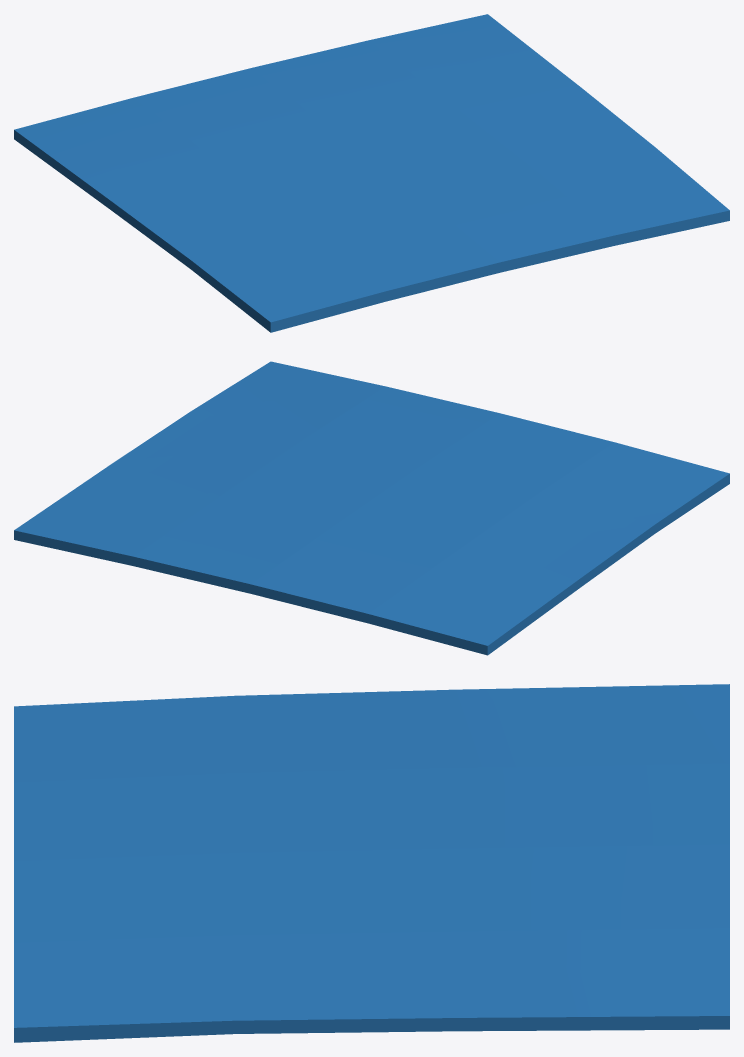
Rendered from hana_roadster_bonnet.glb.
3 views of the same model, one above another, from view 1: azimuth 30°, elevation 25°; view 2: azimuth 150°, elevation 25°; view 3: azimuth 270°, elevation 25° (orthographic). The views are drawn at different scales.
Parts seen in each view (by area): view 1: hana_roadster_bonnet; view 2: hana_roadster_bonnet; view 3: hana_roadster_bonnet.
Boxes of the visible parts, x1=… form: hana_roadster_bonnet: x1=14, y1=14, x2=729, y2=332; hana_roadster_bonnet: x1=14, y1=361, x2=729, y2=655; hana_roadster_bonnet: x1=14, y1=684, x2=729, y2=1042.
Bounding box in the file's own units: 1.4 × 0.074 × 1.28.
